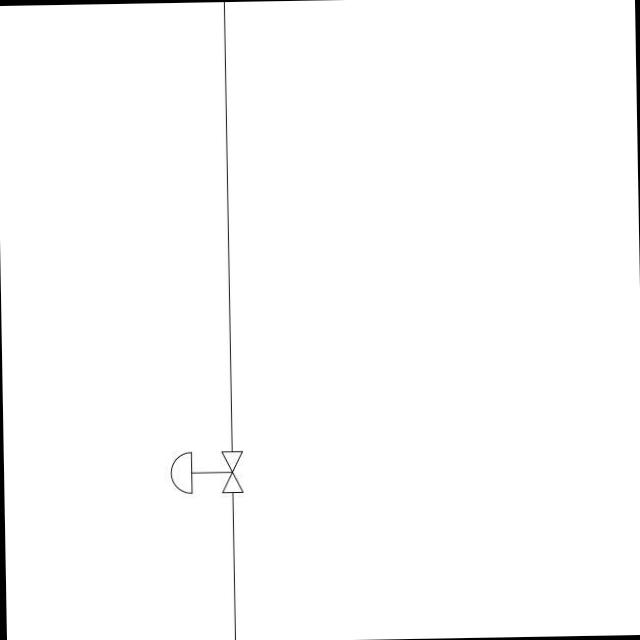FC: (163, 447, 243, 498)
